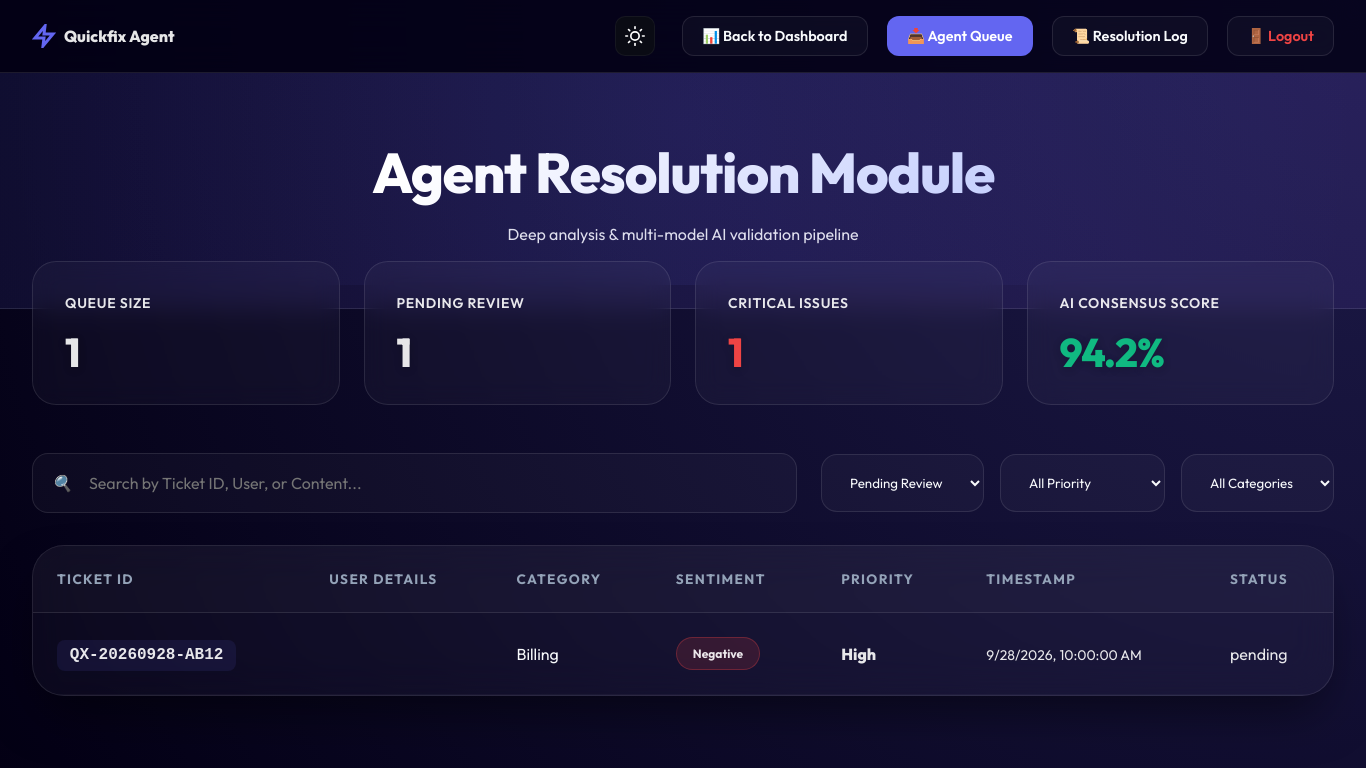
it: rejected validation offers a force-deliver
Click the text "QX-20260928-AB12": (147, 655) [57,640,236,671]
(page scrolled)
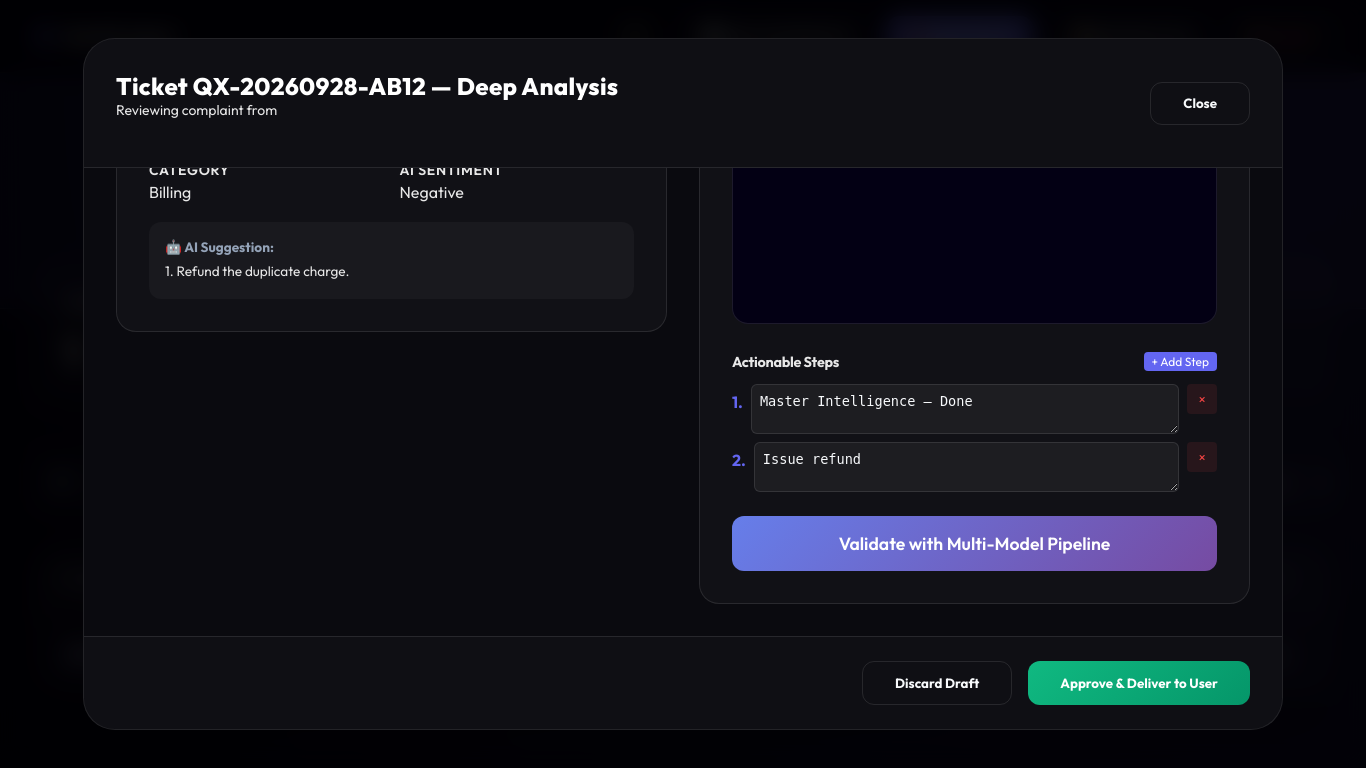
Click the button "Validate with Multi-Model Pipeline": (974, 544) [732,516,1217,571]
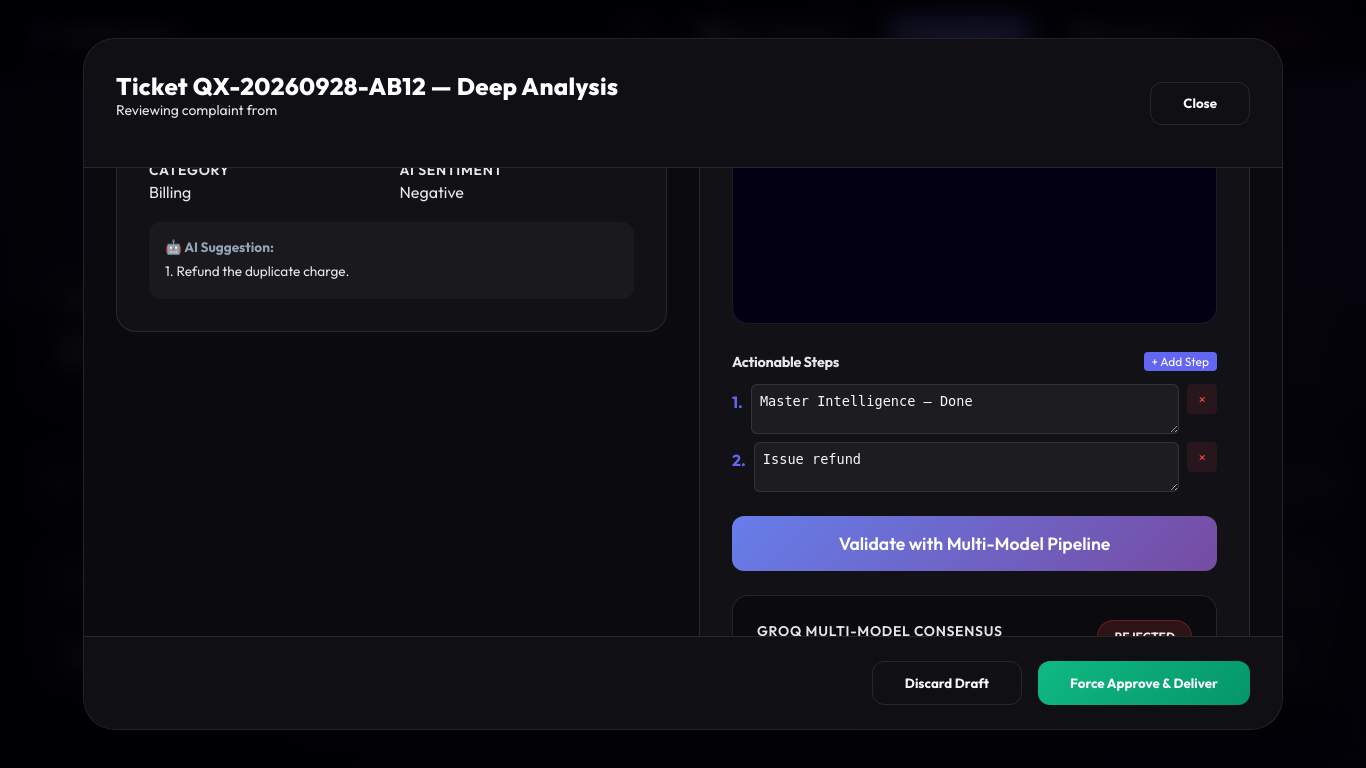
expect the button "Force Approve & Deliver" is shown: met, box [1038,661,1250,705]
